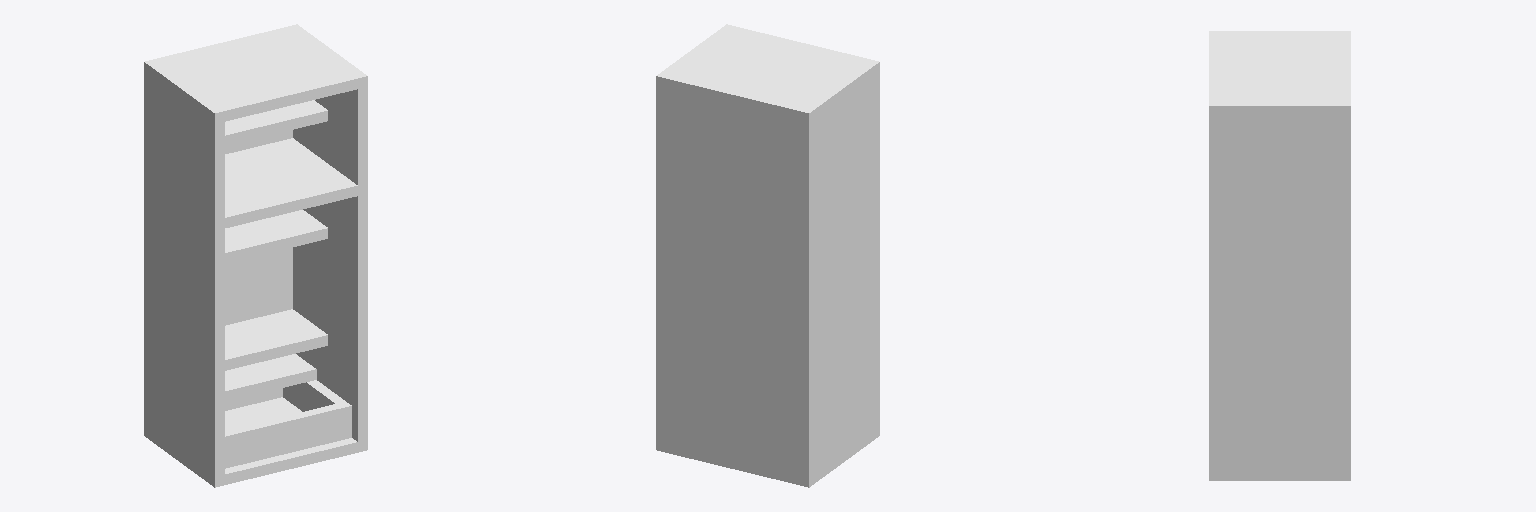
File: Decor-44.obj
3 views of the same model, side by side, from view 1: azimuth 30°, elevation 25°; view 2: azimuth 150°, elevation 25°; view 3: azimuth 270°, elevation 25° (orthographic).
Parts seen in each view (by area): view 1: object 1; view 2: object 1; view 3: object 1.
Part boxes in pixels (x1,y1,x2,y2): object 1: (144,24,367,487); object 1: (656,24,879,487); object 1: (1209,31,1350,480).
Bounding box in the file's own units: 1.5 × 3.5 × 1.2.